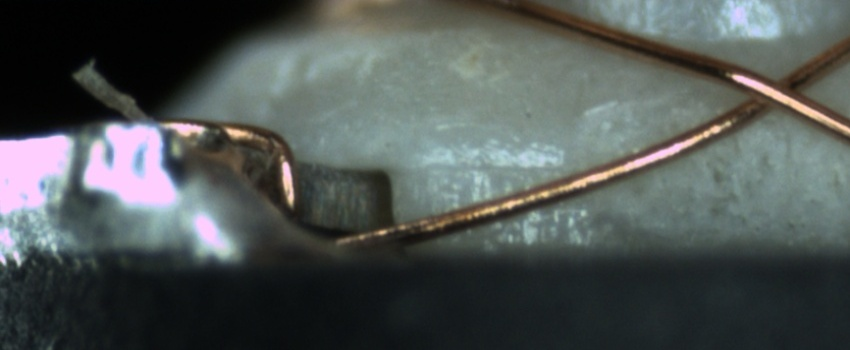CL: (720, 55, 829, 126)
DL: (424, 135, 577, 199)
TE: (141, 111, 317, 235)
